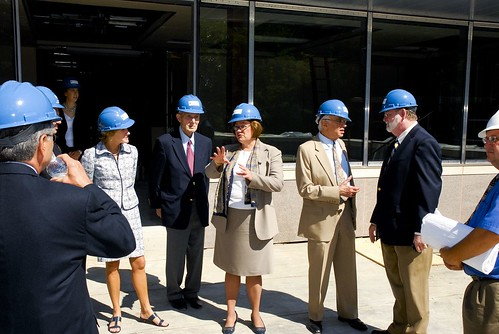person hardhat: (1, 79, 62, 169), (379, 87, 418, 133), (226, 103, 264, 144), (97, 107, 136, 146), (314, 100, 352, 138), (477, 111, 499, 172), (176, 95, 205, 133)
